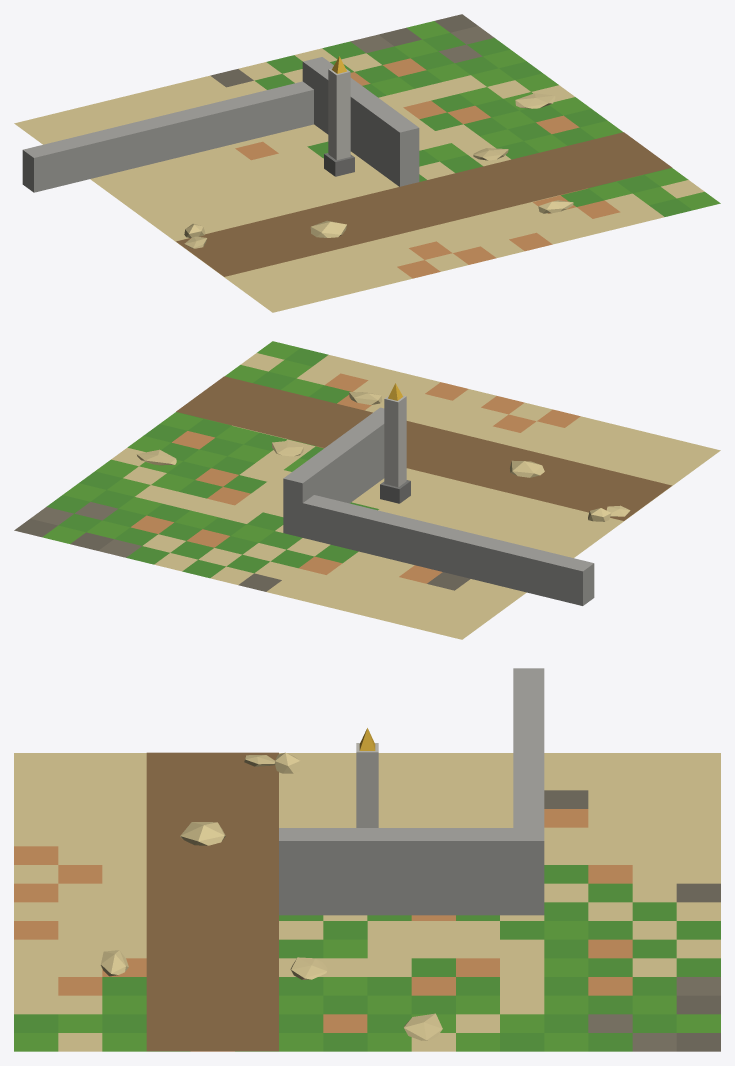
Rendered from chunk_7_20.glb.
The picture shows the model from 3 angles, top to bottom: view 1: azimuth 30°, elevation 25°; view 2: azimuth 150°, elevation 25°; view 3: azimuth 270°, elevation 25°; orthographic projection. The views are drawn at different scales.
Visible parts, largest first — view 1: chunk_7_20; view 2: chunk_7_20; view 3: chunk_7_20.
Part boxes in pixels (box(x1,y1,x2,y2)): chunk_7_20: box(14, 14, 720, 312); chunk_7_20: box(14, 341, 720, 639); chunk_7_20: box(14, 668, 720, 1051).
Bounding box in the file's own units: 18 × 4.32 × 16.
